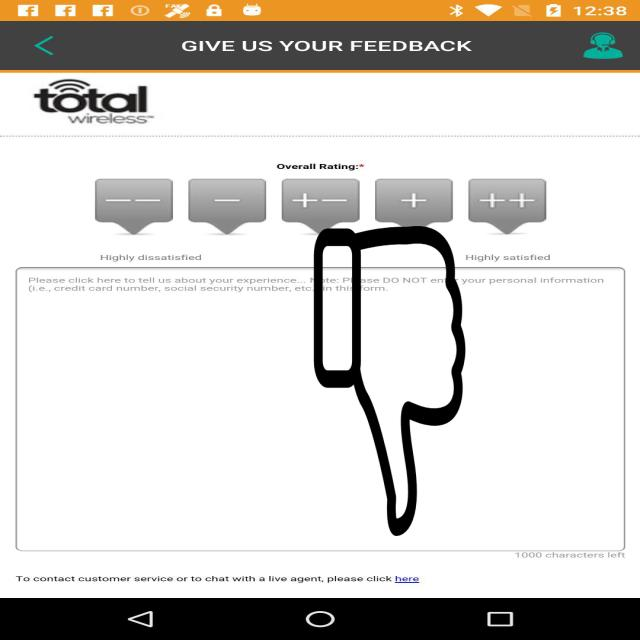obstruction: (312, 226, 468, 536)
